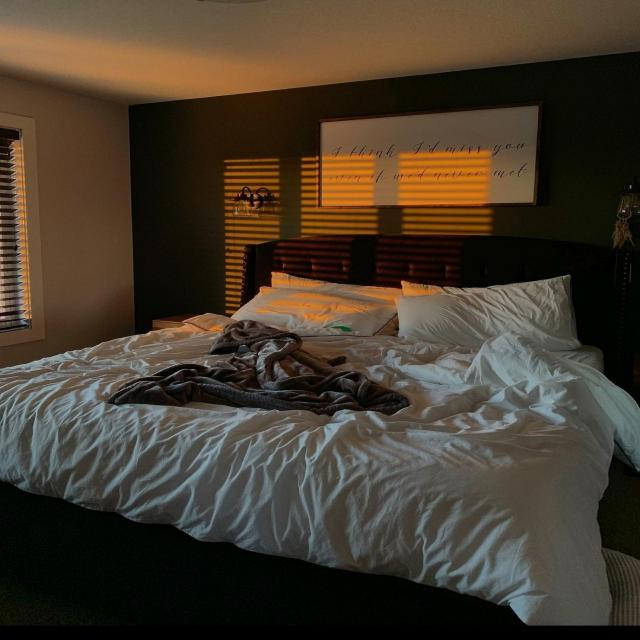bed: (0, 271, 611, 548)
